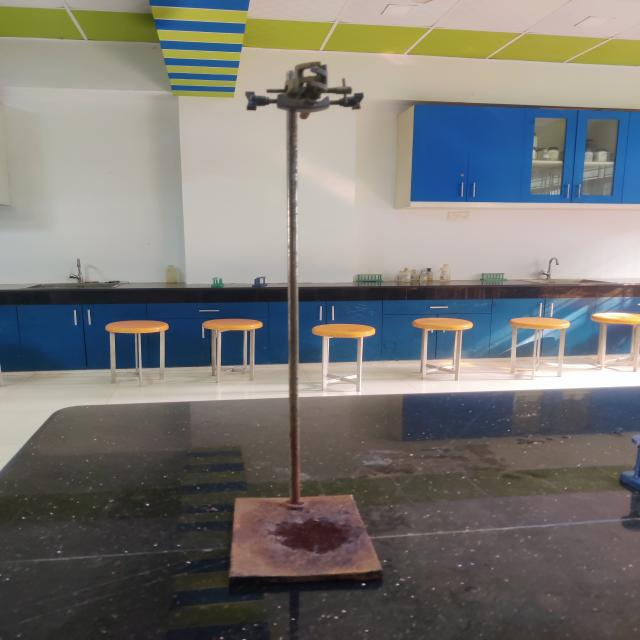Burette_Stands: (171, 36, 435, 619)
